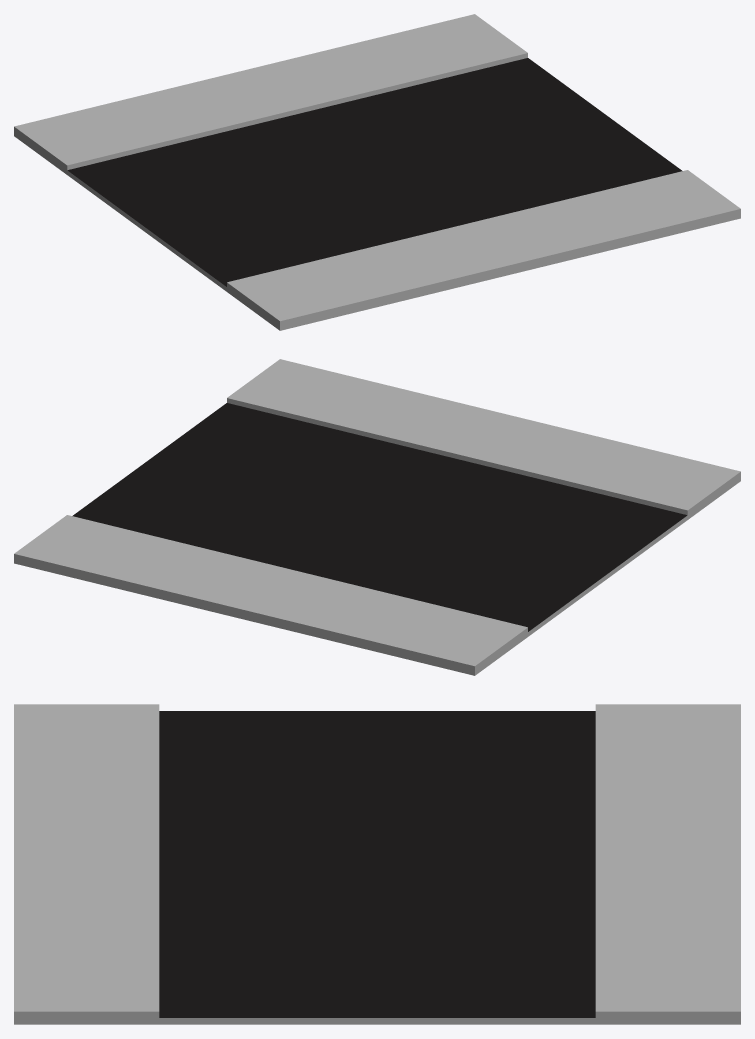
Rendered from Env_Road_Straight_01.fbx.
The picture shows the model from 3 angles, top to bottom: view 1: azimuth 30°, elevation 25°; view 2: azimuth 150°, elevation 25°; view 3: azimuth 270°, elevation 25°; orthographic projection. The views are drawn at different scales.
Visible parts, largest first — view 1: Env_Road_Straight_01; view 2: Env_Road_Straight_01; view 3: Env_Road_Straight_01.
Boxes of the visible parts, x1,y1,x2,y2 form: Env_Road_Straight_01: (14, 14, 740, 330); Env_Road_Straight_01: (14, 359, 740, 675); Env_Road_Straight_01: (14, 704, 740, 1024).
Size of the model in its own units: 1000 by 20 by 1000.
Materials: 1 (1 with a texture image).
